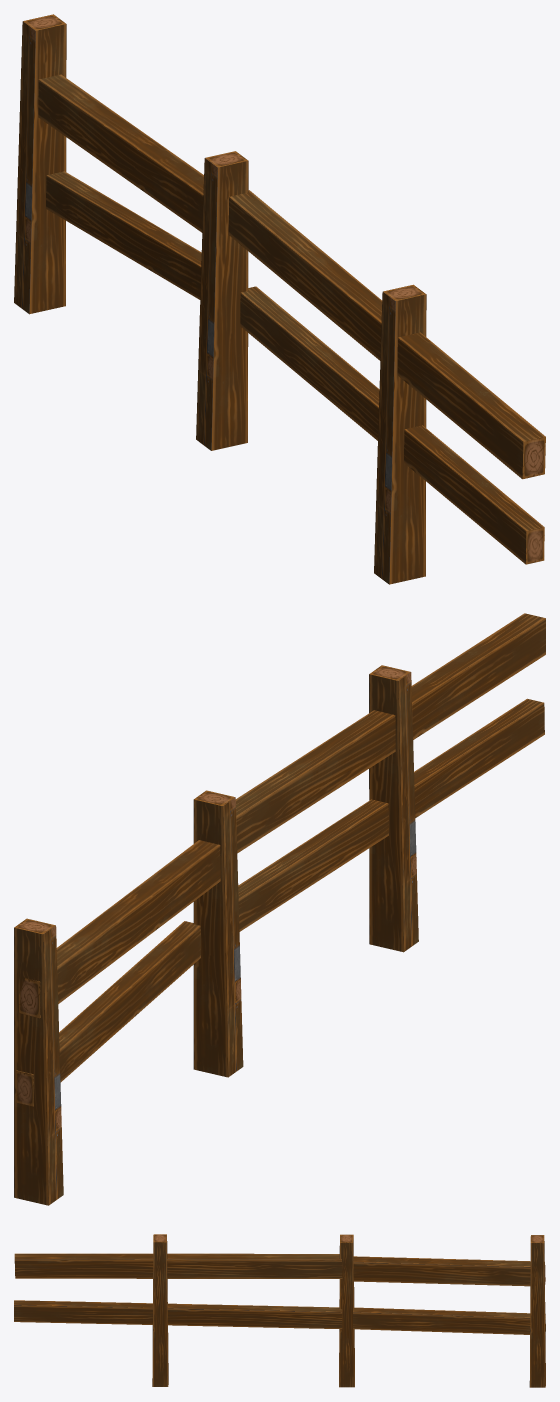
3 renders of one model, top to bottom at view 1: azimuth 30°, elevation 25°; view 2: azimuth 150°, elevation 25°; view 3: azimuth 270°, elevation 25°, orthographic. The views are drawn at different scales.
Parts seen in each view (by area): view 1: Cube.031; view 2: Cube.031; view 3: Cube.031.
Boxes of the visible parts, x1=… form: Cube.031: x1=14, y1=14, x2=545, y2=584; Cube.031: x1=14, y1=613, x2=545, y2=1205; Cube.031: x1=14, y1=1234, x2=545, y2=1387.
Bounding box in the file's own units: 28.45 × 150 × 497.
1 material, 1 textured.
